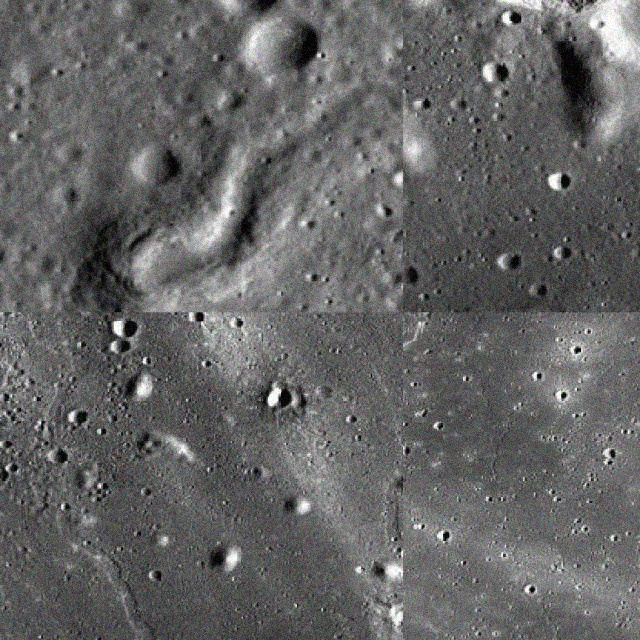crater: (45, 356, 323, 638), (123, 75, 402, 297), (454, 312, 635, 638)
